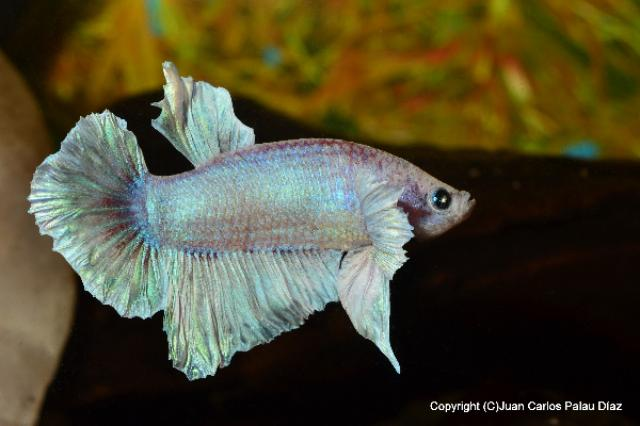Mulut: (440, 171, 500, 249)
Sirip Dada: (347, 160, 425, 292)
Sirip Ekor: (15, 98, 178, 340)
Sirip Punggung: (143, 45, 279, 186)
